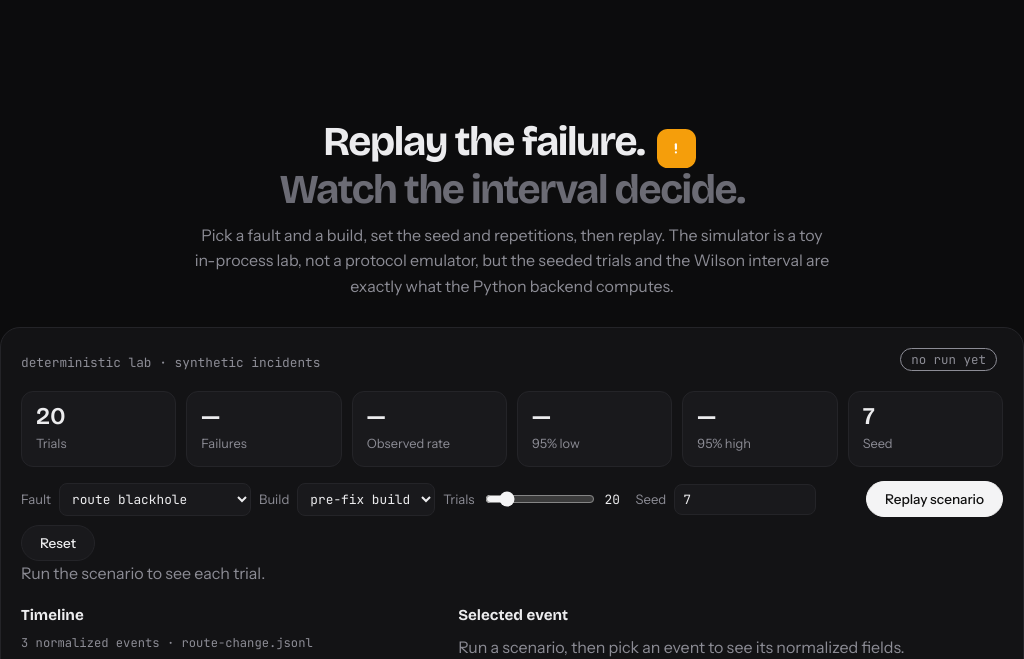
simulator › clamps the trial count and seed to the backend limits
Set the slider labelled "Trials" to "1" at (540, 499), box [485, 491, 595, 507]
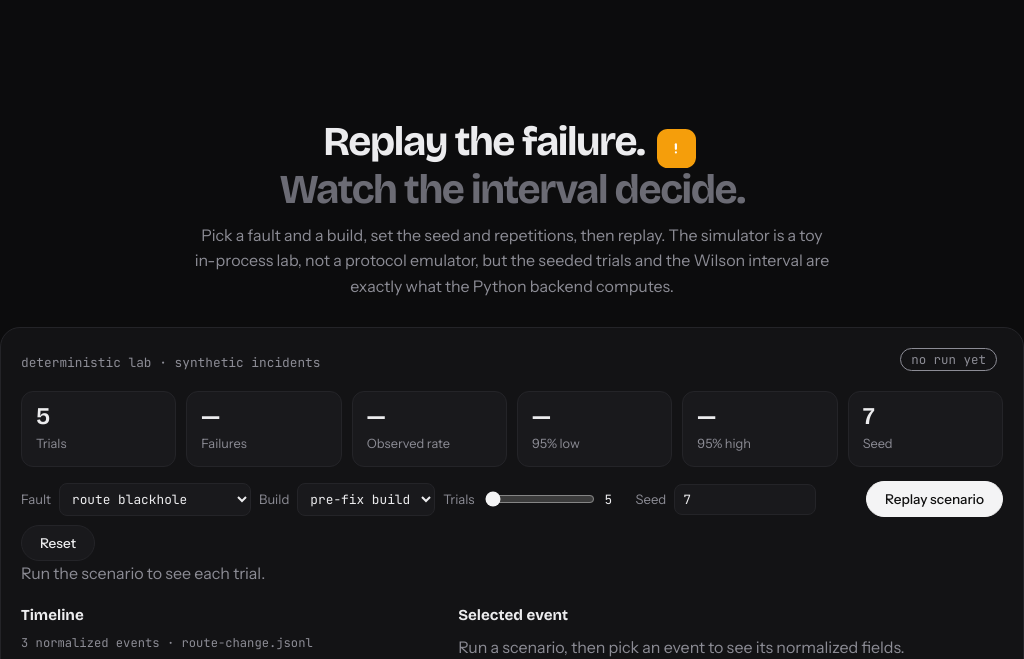
Check: the 1st text "5" is shown, box [36, 402, 50, 430]
Replace the text in the number field labelled "Seed" with "-4" at (745, 499), box [674, 484, 816, 514]
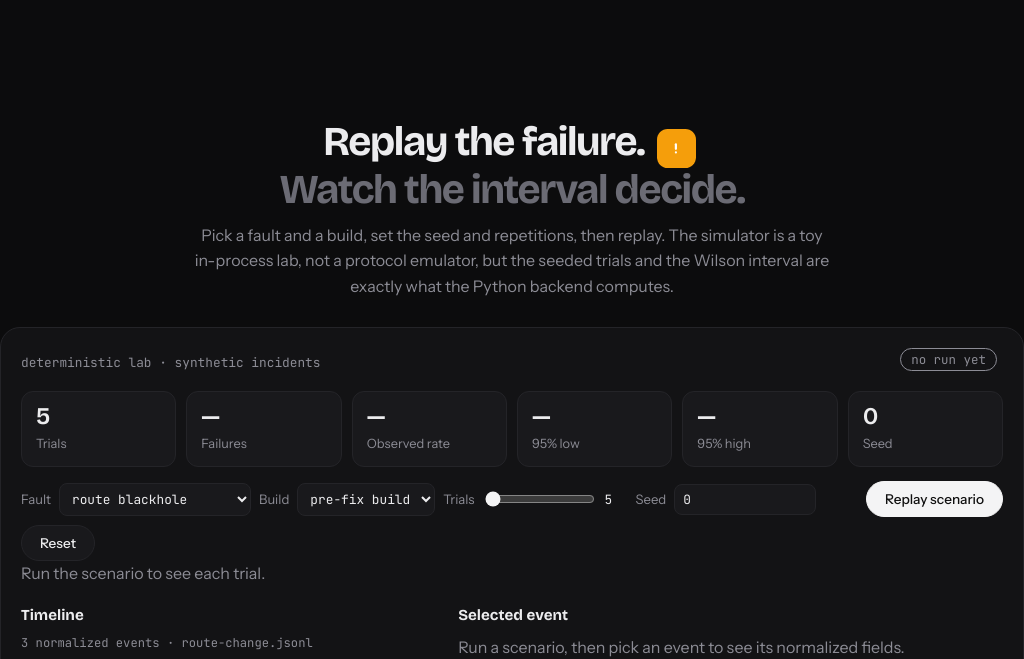
Check: the number field labelled "Seed" holds "0"
Replace the text in the number field labelled "Seed" with "9999999999" at (745, 499), box [674, 484, 816, 514]
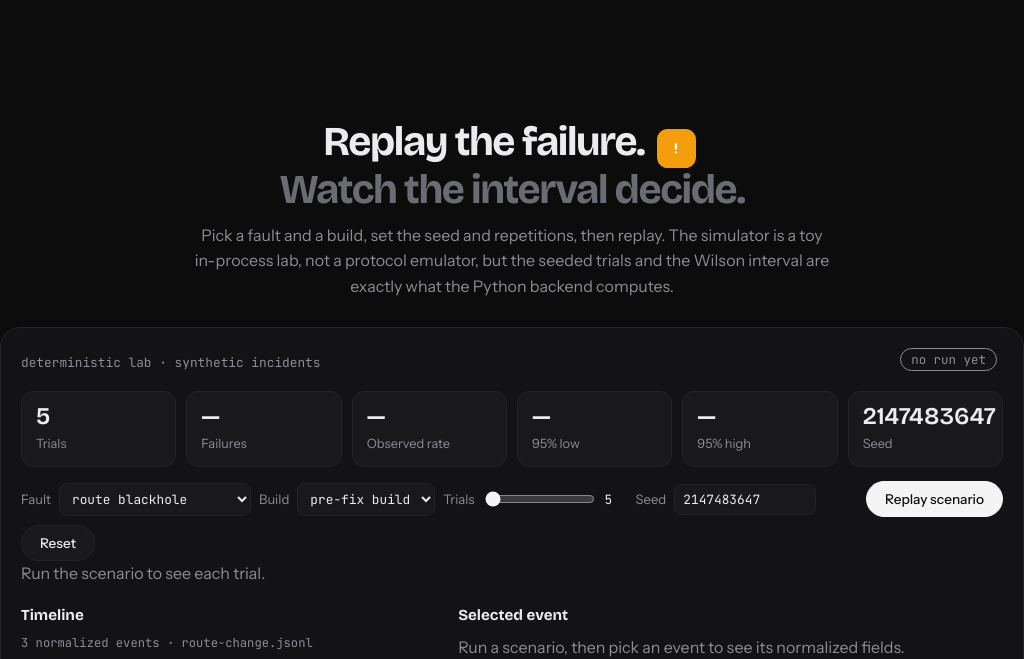
Check: the number field labelled "Seed" holds "2147483647", box [674, 484, 816, 514]
